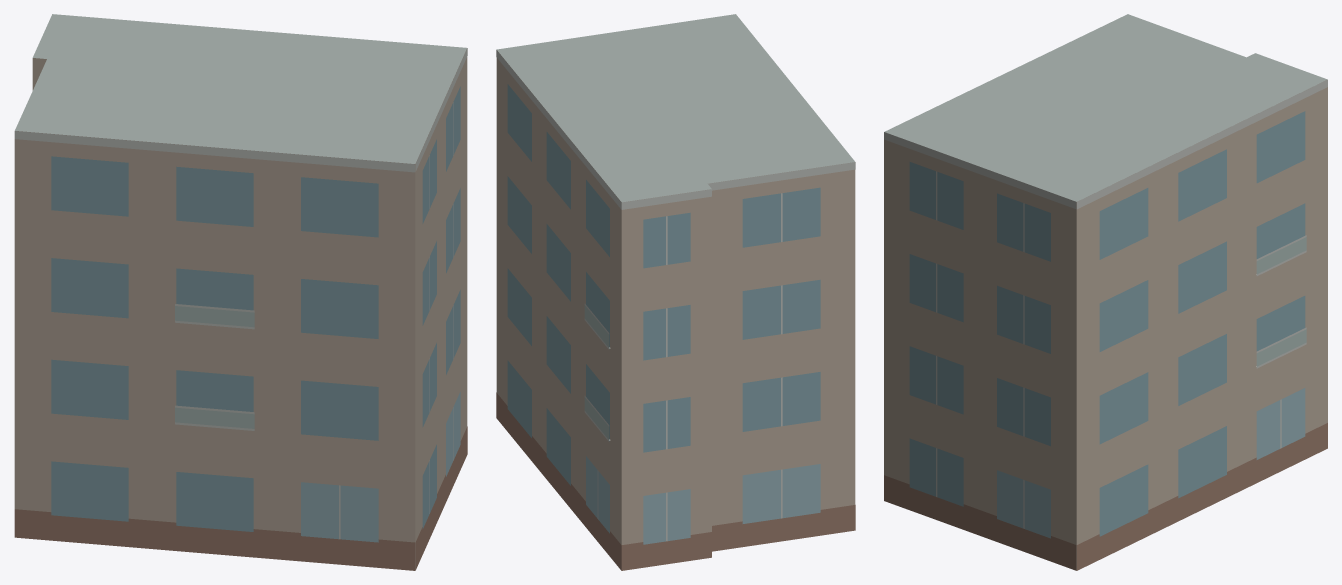
The model's file is survey-upis-32608781.glb.
3 renders of one model, left to right at view 1: azimuth 30°, elevation 25°; view 2: azimuth 150°, elevation 25°; view 3: azimuth 270°, elevation 25°, orthographic. The views are drawn at different scales.
Visible parts, largest first — view 1: survey-upis-32608781.tmp; view 2: survey-upis-32608781.tmp; view 3: survey-upis-32608781.tmp.
Part boxes in pixels (left/top/right/bottom): survey-upis-32608781.tmp: left=14, top=14, right=467, bottom=570; survey-upis-32608781.tmp: left=496, top=14, right=855, bottom=570; survey-upis-32608781.tmp: left=884, top=14, right=1327, bottom=570.
Size of the model in its own units: 13 by 11.9 by 12.98.
